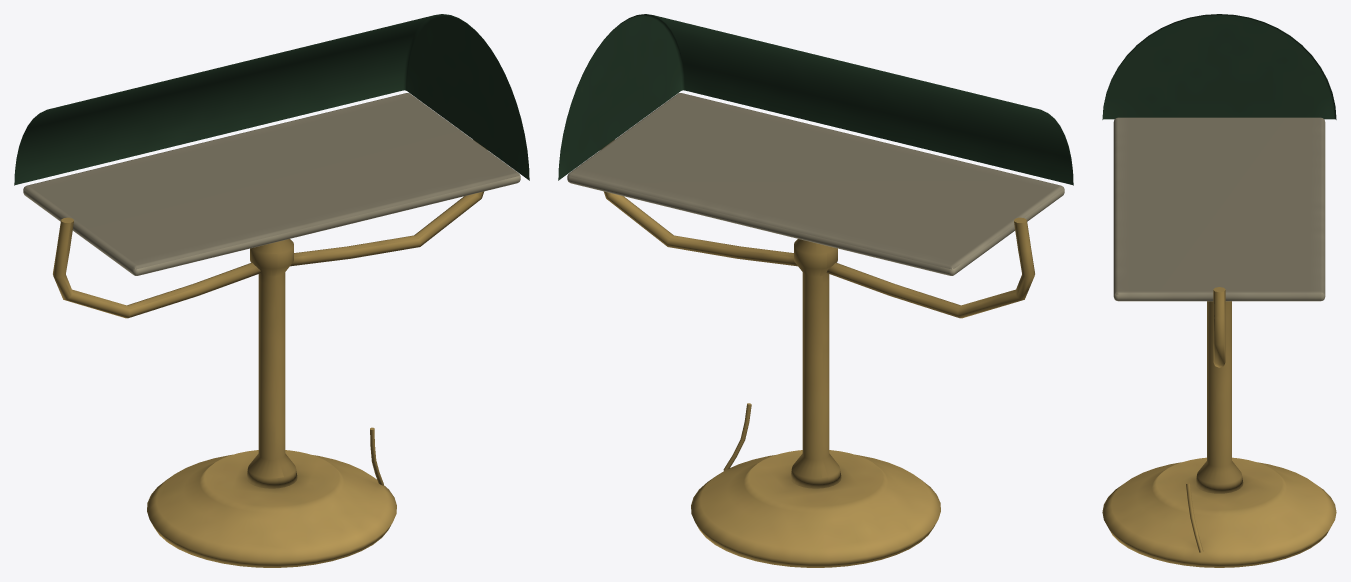
The model's file is lamp-02.gltf.
3 renders of one model, left to right at view 1: azimuth 30°, elevation 25°; view 2: azimuth 150°, elevation 25°; view 3: azimuth 270°, elevation 25°, orthographic. The views are drawn at different scales.
Parts seen in each view (by area): view 1: lamp-02; view 2: lamp-02; view 3: lamp-02.
Boxes of the visible parts, x1,y1,x2,y2 form: lamp-02: [14, 14, 529, 567]; lamp-02: [558, 14, 1073, 567]; lamp-02: [1102, 14, 1336, 567].
Bounding box in the file's own units: 0.5239 × 0.52 × 0.26.
Materials: 3 (3 with a texture image).
